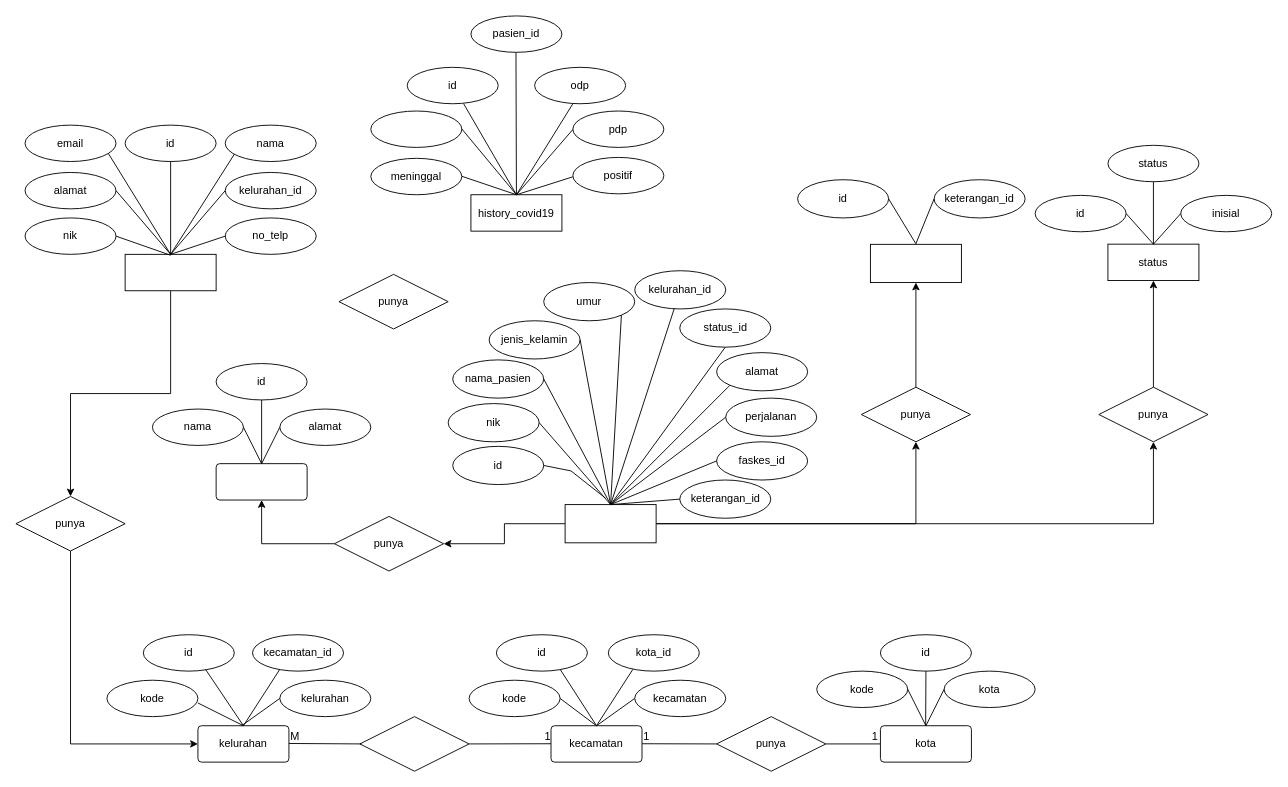
This 1288x787 diagram has some shape labels left out. Each missing label, with the box of its shape:
faskes: (215, 463, 307, 500)
keterangan: (870, 243, 961, 283)
memiliki: (359, 716, 469, 771)
pasien: (564, 504, 656, 543)
pelapor: (124, 253, 216, 291)
sembuh: (370, 110, 462, 147)
